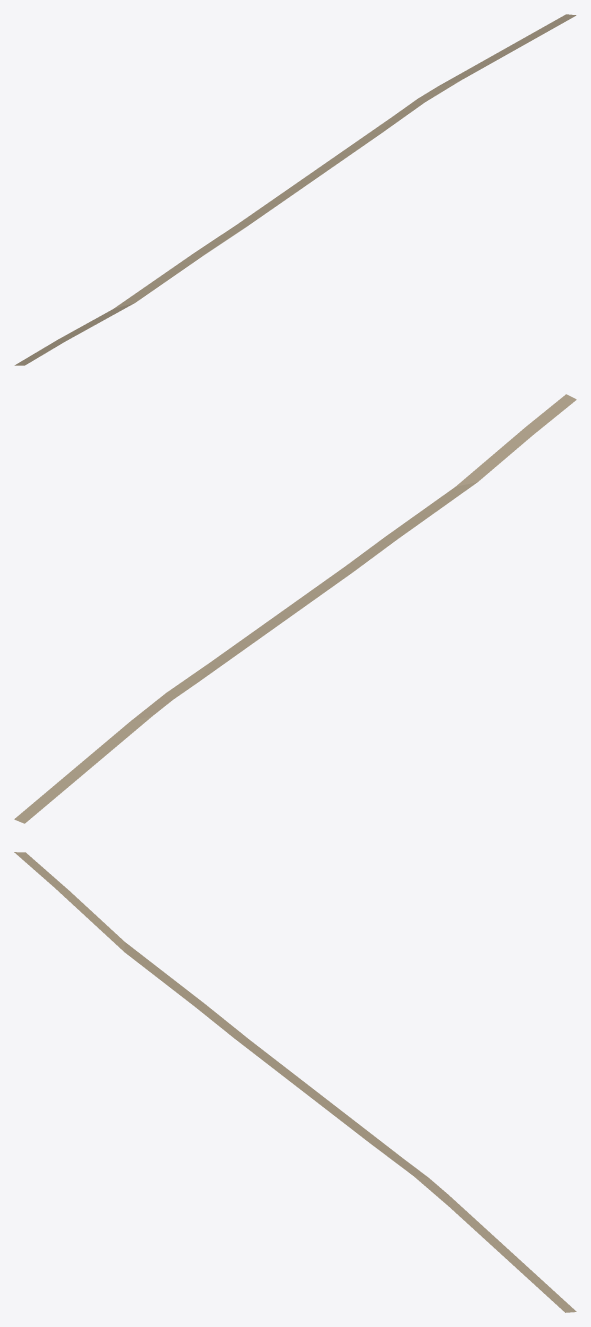
Rendered from farm_-3_3_track.glb.
3 renders of one model, top to bottom at view 1: azimuth 30°, elevation 25°; view 2: azimuth 210°, elevation 25°; view 3: azimuth 270°, elevation 25°, orthographic. The views are drawn at different scales.
Parts seen in each view (by area): view 1: geometry_0; view 2: geometry_0; view 3: geometry_0.
Part boxes in pixels (left/top/right/bottom): geometry_0: left=14, top=14, right=576, bottom=365; geometry_0: left=14, top=394, right=576, bottom=823; geometry_0: left=14, top=852, right=576, bottom=1312.
Bounding box in the file's own units: 247 × 11.31 × 139.
